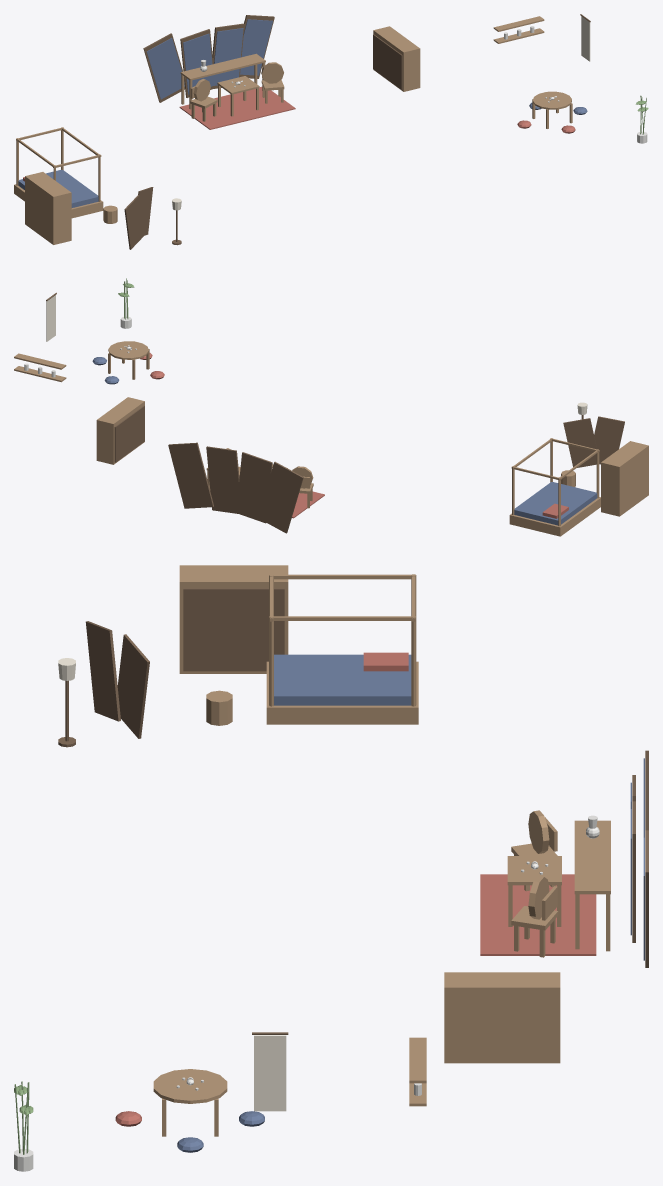
File: interior.glb
3 views of the same model, one above another, from view 1: azimuth 30°, elevation 25°; view 2: azimuth 150°, elevation 25°; view 3: azimuth 270°, elevation 25° (orthographic). The views are drawn at different scales.
Visible parts, largest first — view 1: Furn_Wardrobe, Furn_Mat, Furn_Screen0p, Furn_Cabinet, Furn_Screen3p, Furn_Screen2p, Furn_CabinetDoor, Furn_Screen1p, Furn_BedMattress, Furn_AltarTable_top, Furn_BedScreen1, Furn_TeaTableTop (+7 smaller); view 2: Furn_Wardrobe, Furn_Screen3f, Furn_Screen0f, Furn_BedMattress, Furn_Screen2f, Furn_Screen1f, Furn_Cabinet, Furn_BedScreen0, Furn_CabinetDoor, Furn_BedBase, Furn_BedScreen1, Furn_TeaTableTop (+1 smaller); view 3: Furn_Cabinet, Furn_WardrobeDoor, Furn_BedMattress, Furn_Mat, Furn_Wardrobe, Furn_BedBase, Furn_AltarTable_top, Furn_Scroll, Furn_BedScreen1, Furn_BedScreen0, Furn_TeaTableTop, Furn_TeaTable_top (+3 smaller).
Part boxes in pixels (<box>): Furn_Wardrobe: <box>25,172,71,244</box>; Furn_Mat: <box>179,86,295,129</box>; Furn_Screen0p: <box>146,38,184,99</box>; Furn_Cabinet: <box>373,26,420,91</box>; Furn_Screen3p: <box>240,19,272,75</box>; Furn_Screen2p: <box>213,28,243,85</box>; Furn_CabinetDoor: <box>373,34,402,89</box>; Furn_Screen1p: <box>183,33,214,94</box>; Furn_BedMattress: <box>18,169,98,207</box>; Furn_AltarTable_top: <box>180,53,265,80</box>; Furn_BedScreen1: <box>124,195,144,249</box>; Furn_TeaTableTop: <box>532,91,571,109</box>; Furn_Wardrobe: <box>601,441,648,516</box>; Furn_Screen3f: <box>168,442,213,508</box>; Furn_Screen0f: <box>258,461,303,533</box>; Furn_BedMattress: <box>514,482,597,525</box>; Furn_Screen2f: <box>206,446,241,513</box>; Furn_Screen1f: <box>236,452,272,523</box>; Furn_Cabinet: <box>96,397,144,464</box>; Furn_BedScreen0: <box>563,418,600,467</box>; Furn_CabinetDoor: <box>114,405,144,462</box>; Furn_BedBase: <box>509,497,600,536</box>; Furn_BedScreen1: <box>594,416,624,464</box>; Furn_TeaTableTop: <box>108,341,148,359</box>; Furn_Cabinet: <box>444,972,560,1063</box>; Furn_WardrobeDoor: <box>183,588,284,671</box>; Furn_BedMattress: <box>274,654,411,705</box>; Furn_Mat: <box>480,874,596,955</box>; Furn_Wardrobe: <box>179,565,288,673</box>; Furn_BedBase: <box>266,661,418,724</box>; Furn_AltarTable_top: <box>574,820,610,894</box>; Furn_Scroll: <box>254,1035,286,1111</box>; Furn_BedScreen1: <box>85,621,120,721</box>; Furn_BedScreen0: <box>117,634,149,738</box>; Furn_TeaTableTop: <box>153,1069,227,1103</box>; Furn_TeaTable_top: <box>507,856,561,885</box>.
Bounding box in the file's own units: 16.92 × 2.26 × 8.76.
